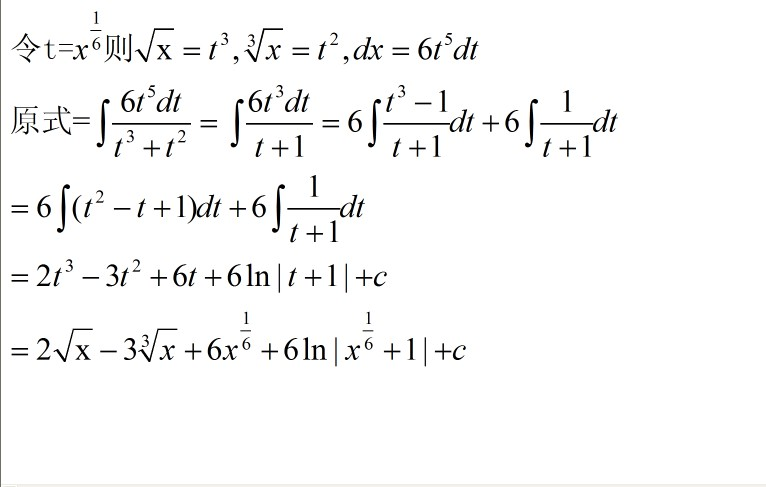cube: (272, 80, 286, 103), (63, 257, 76, 275), (123, 129, 137, 142), (396, 84, 406, 101), (220, 33, 231, 44)
division: (378, 118, 452, 130), (537, 119, 593, 130), (288, 203, 343, 213)
sqrt: (52, 327, 94, 366)
square: (95, 186, 103, 203), (177, 126, 185, 142)
